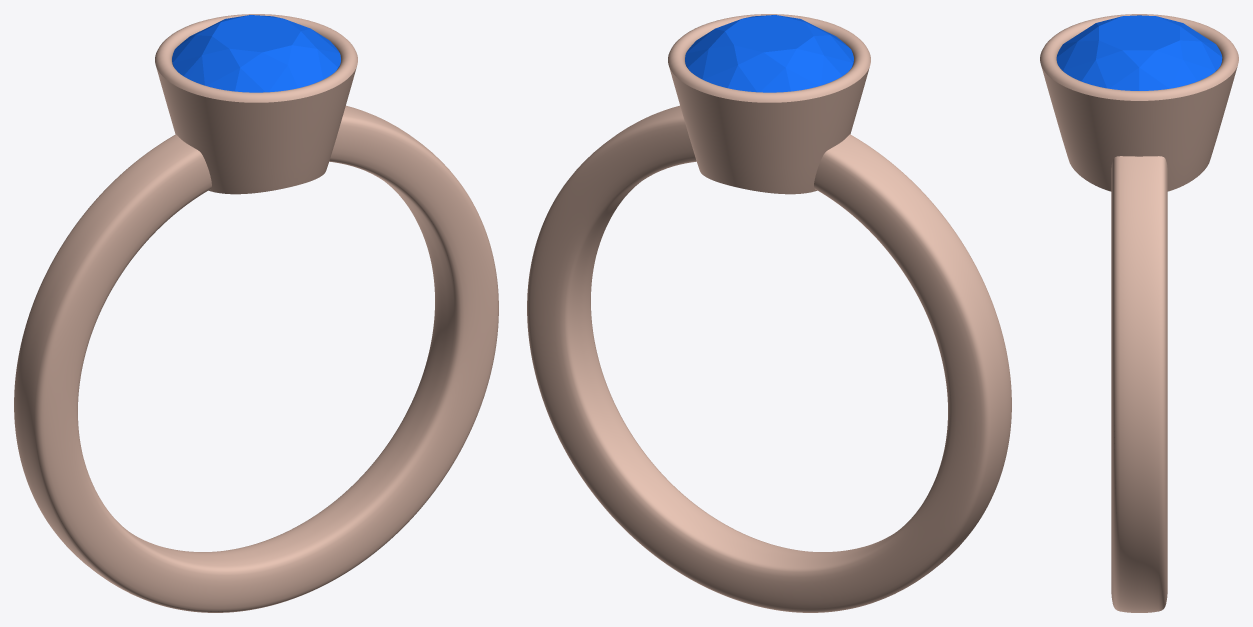
The model's file is bluesapphire-round-rosegold-bezelset-straightband-nosidestones.glb.
The picture shows the model from 3 angles, left to right: view 1: azimuth 30°, elevation 25°; view 2: azimuth 150°, elevation 25°; view 3: azimuth 270°, elevation 25°; orthographic projection. The views are drawn at different scales.
Parts seen in each view (by area): view 1: metal, stone; view 2: metal, stone; view 3: metal, stone.
Boxes of the visible parts, x1,y1,x2,y2 form: metal: (14, 14, 498, 612); stone: (172, 15, 340, 92); metal: (527, 14, 1011, 612); stone: (685, 15, 853, 92); metal: (1040, 14, 1238, 612); stone: (1056, 15, 1222, 90).
Bounding box in the file's own units: 20.51 × 23.82 × 7.74.
